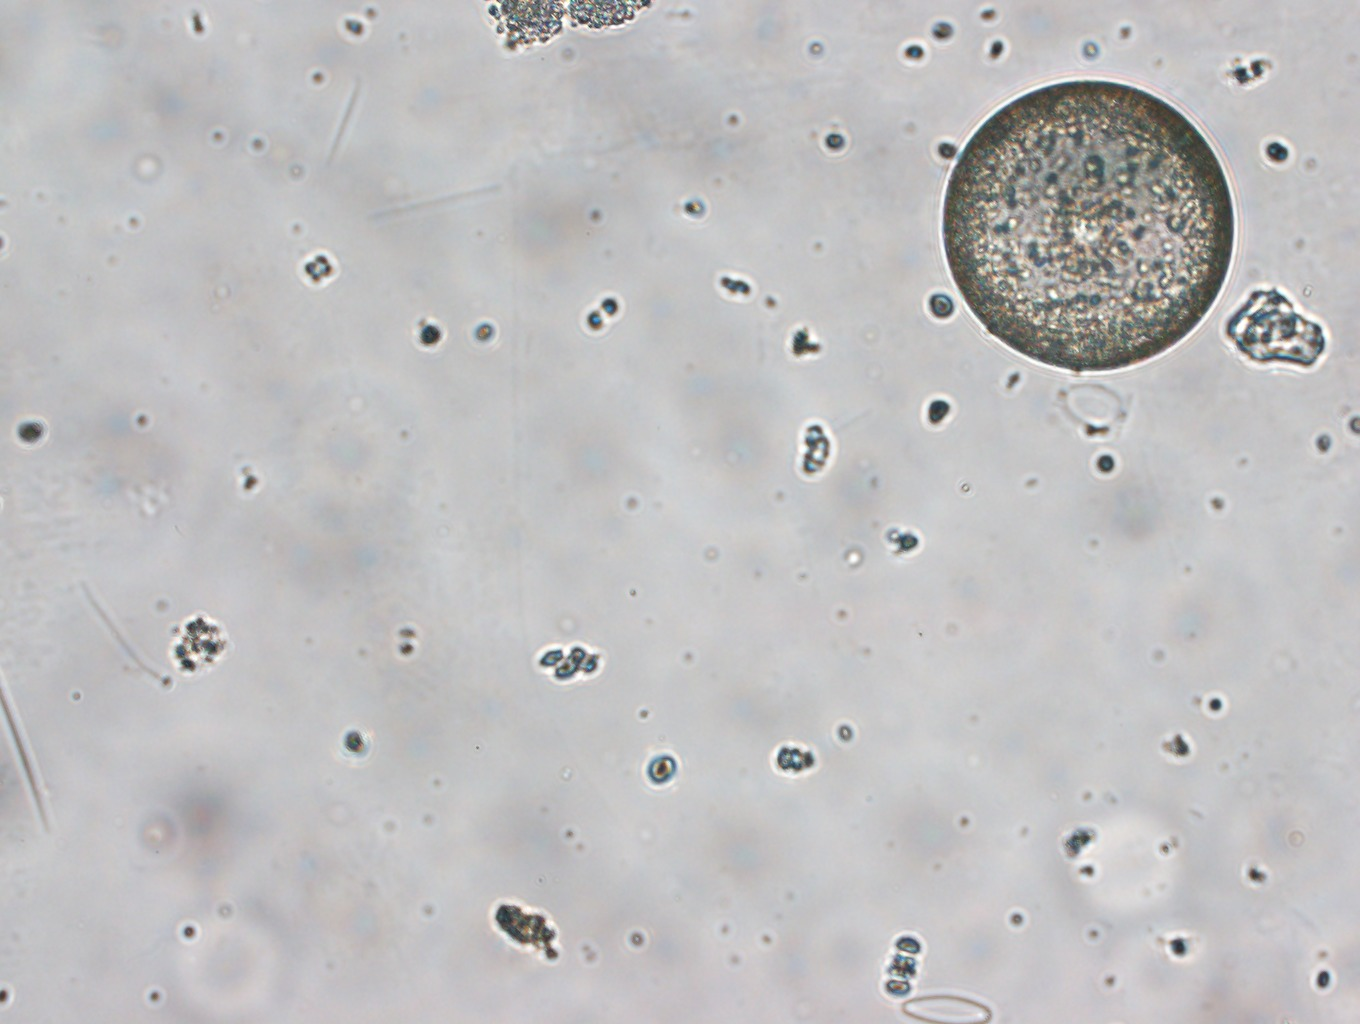coscinodiscus: (929, 74, 1236, 380)
